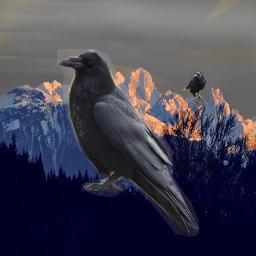Crow: (57, 49, 201, 238), (181, 70, 206, 105)
